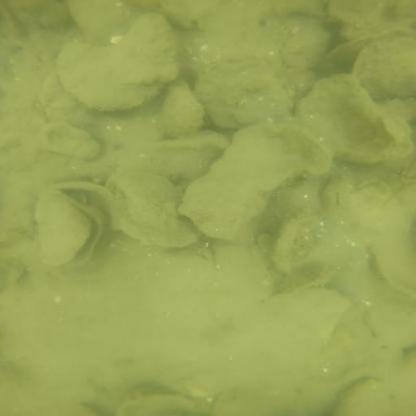Oyster-Closed: (184, 125, 310, 241), (56, 14, 175, 111), (107, 170, 199, 247), (195, 57, 290, 127), (354, 32, 415, 97), (42, 73, 102, 127), (276, 214, 323, 273), (283, 21, 329, 70), (68, 1, 126, 39), (335, 379, 396, 415), (161, 81, 203, 133), (270, 264, 338, 296), (211, 391, 257, 415)
Oyster-Open: (39, 195, 103, 267)
